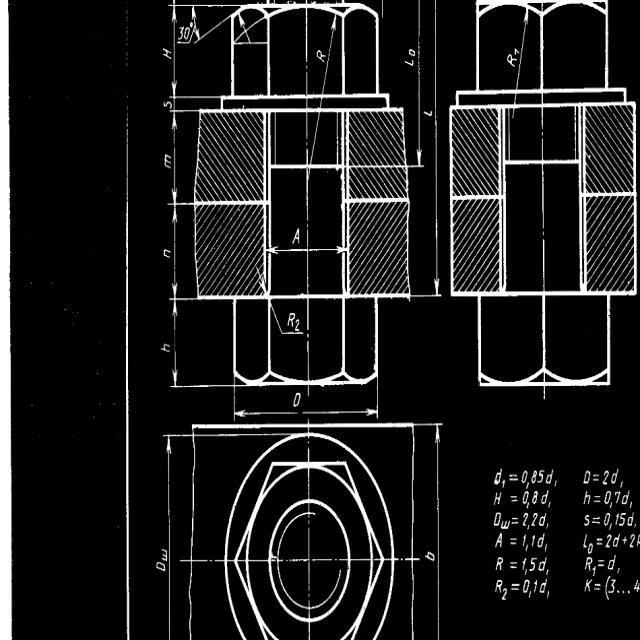marking_line: (433, 0, 441, 295), (435, 426, 441, 639), (166, 436, 172, 639), (236, 409, 377, 416), (416, 2, 422, 165), (171, 112, 179, 204), (172, 205, 179, 297), (268, 246, 347, 254), (171, 5, 177, 95), (172, 300, 178, 387)
numeric: (521, 469, 529, 489), (532, 579, 539, 598), (609, 578, 616, 597), (522, 579, 530, 595), (528, 557, 536, 573), (603, 510, 610, 528), (531, 468, 537, 487), (605, 534, 612, 550), (538, 468, 544, 486), (604, 492, 612, 505), (522, 511, 528, 528), (619, 512, 625, 529), (532, 490, 538, 506), (532, 512, 538, 528), (603, 468, 609, 484), (614, 491, 621, 504), (629, 534, 635, 548), (522, 557, 527, 572), (523, 492, 529, 504), (530, 535, 536, 547), (633, 580, 639, 592), (522, 533, 527, 547), (615, 513, 620, 527)
special_symbol: (506, 473, 520, 483), (591, 515, 603, 526), (591, 472, 601, 484), (510, 583, 521, 592), (509, 560, 518, 570), (595, 537, 604, 547), (597, 559, 606, 569), (510, 494, 518, 505), (510, 516, 519, 525), (593, 583, 602, 592), (593, 494, 601, 504), (510, 537, 518, 545)
